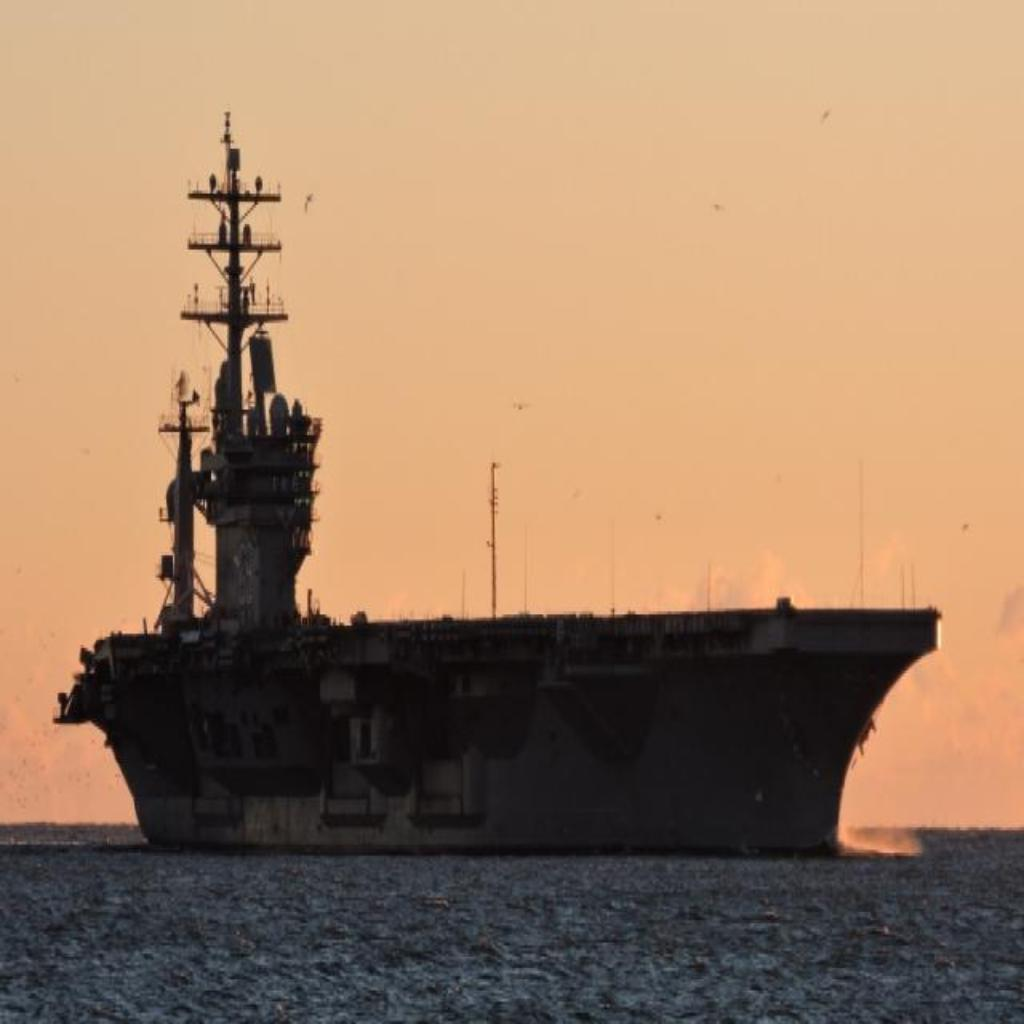Warship: (51, 100, 945, 856)
